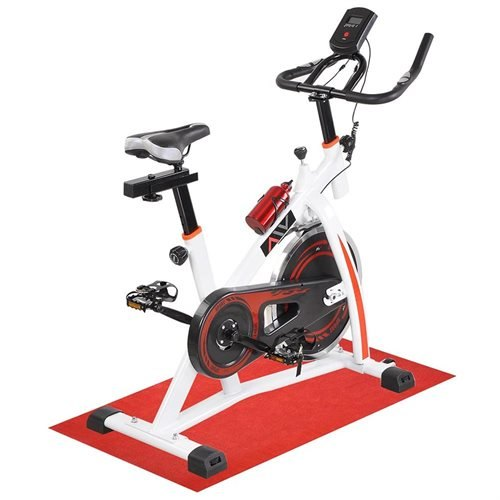gym_bike: (66, 8, 436, 482)
